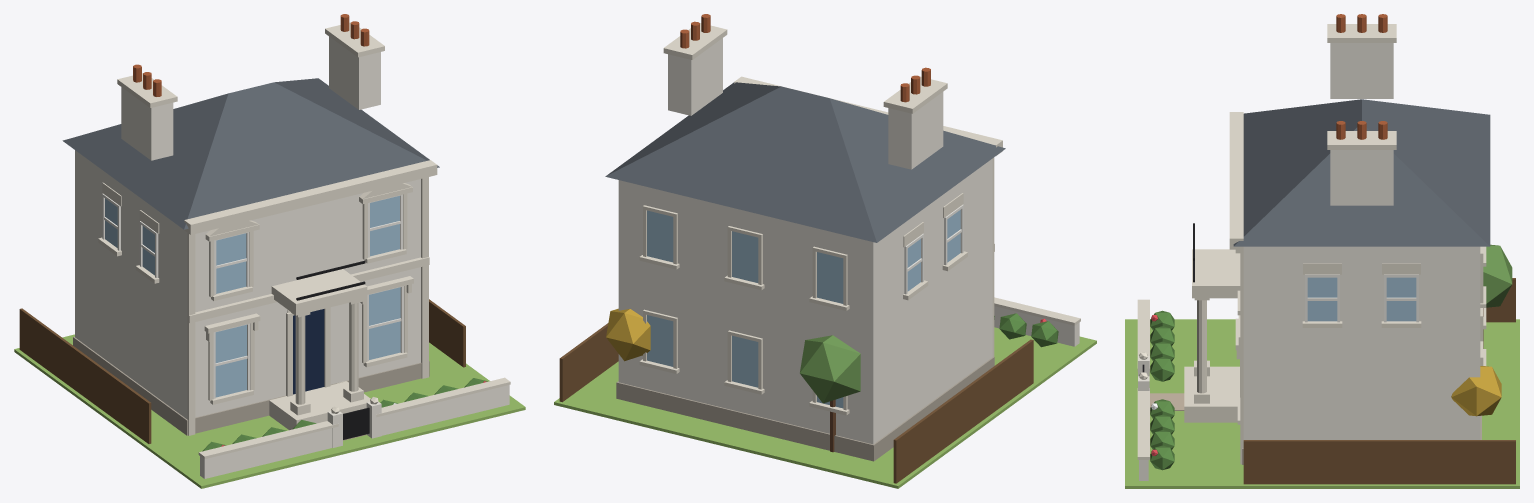
File: MustakilEv_londra_villa_4_Hafif.fbx
The picture shows the model from 3 angles, left to right: view 1: azimuth 30°, elevation 25°; view 2: azimuth 150°, elevation 25°; view 3: azimuth 270°, elevation 25°; orthographic projection. The views are drawn at different scales.
Parts seen in each view (by area): view 1: MustakilEv_londra_villa_4_Hafif; view 2: MustakilEv_londra_villa_4_Hafif; view 3: MustakilEv_londra_villa_4_Hafif.
Boxes of the visible parts, box(x1,y1,x2,y2) form: MustakilEv_londra_villa_4_Hafif: box(14, 14, 525, 488); MustakilEv_londra_villa_4_Hafif: box(554, 14, 1096, 488); MustakilEv_londra_villa_4_Hafif: box(1125, 14, 1519, 488).
Size of the model in its own units: 10 by 9.39 by 10.
